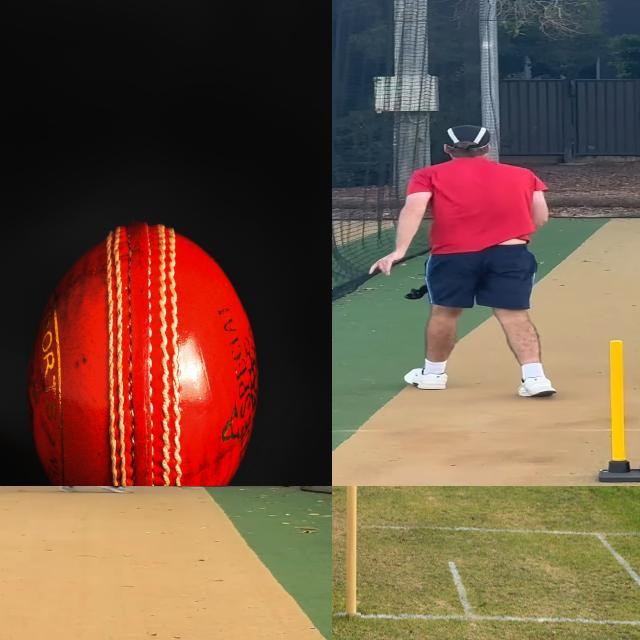Cricket ball: (24, 220, 261, 486)
Stumps: (597, 338, 640, 482), (332, 486, 361, 621)
